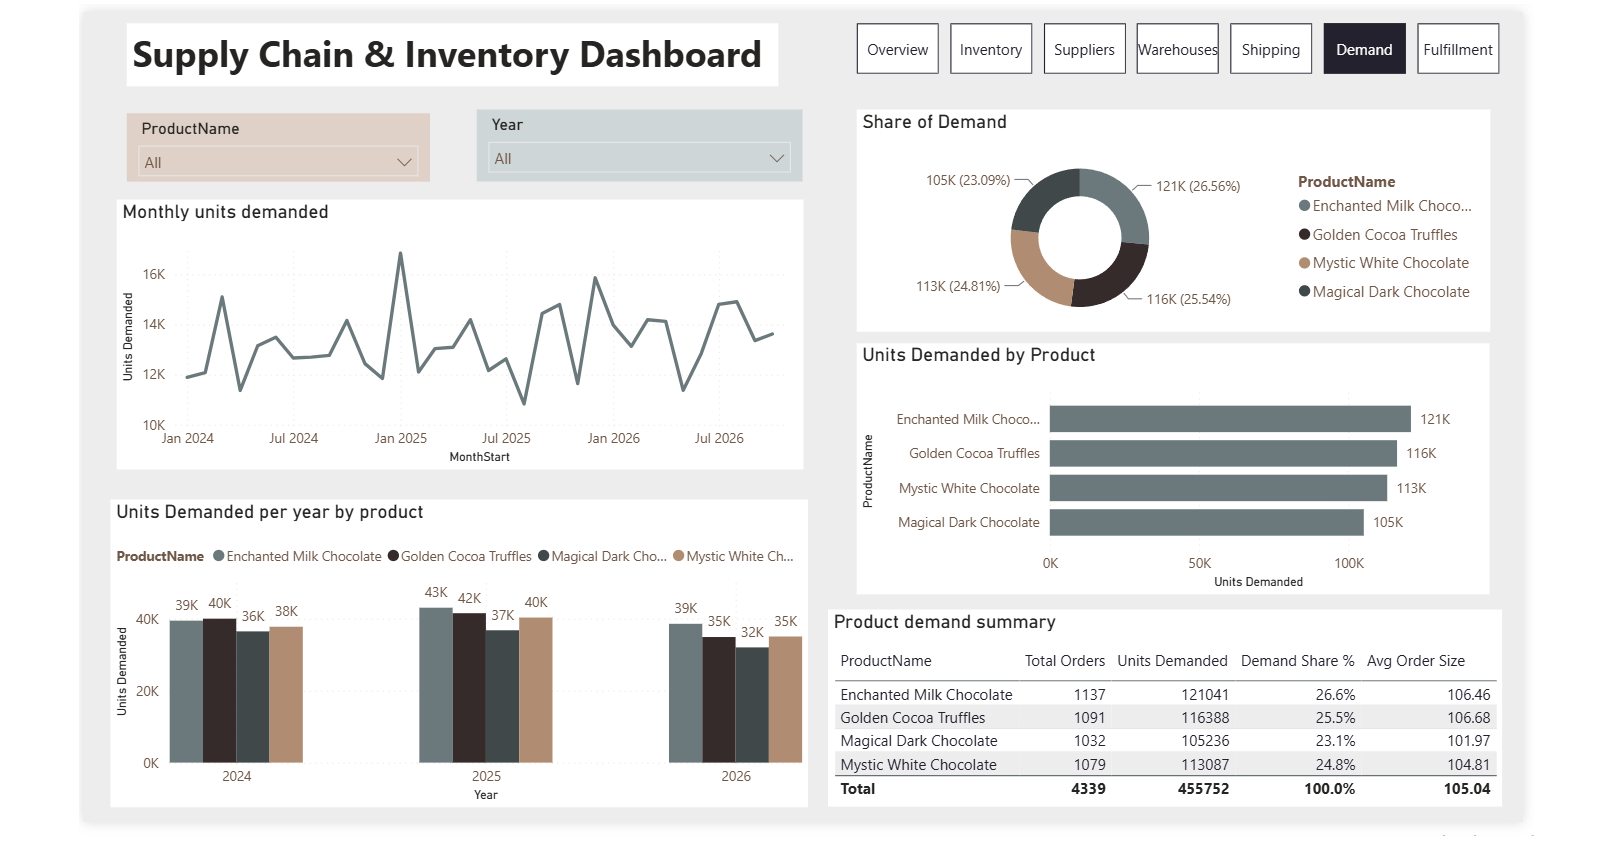

The dashboard page shown, as its layout file describes it:
{"tool":"powerbi","page":{"name":"Demand","canvas":[1280,720],"ordinal":5},"visuals":[{"type":"clusteredBarChart","title":"Units Demanded by Product","fields":{"Category":["sales_orders_clean.ProductName"],"Y":["carriers_clean.Units Demanded"]},"box":[687.4,294.7,562.1,223.2],"z":0},{"type":"donutChart","title":"Share of Demand","fields":{"Category":["sales_orders_clean.ProductName"],"Y":["carriers_clean.Units Demanded"]},"box":[687.4,86.3,563.2,197.9],"z":1000},{"type":"lineChart","title":"Monthly units demanded","fields":{"Y":["carriers_clean.Units Demanded"],"Category":["sales_orders_clean.MonthStart"]},"box":[29.5,166.3,610,240],"z":2000},{"type":"clusteredColumnChart","title":"Units Demanded per year by product","fields":{"Y":["carriers_clean.Units Demanded"],"Series":["sales_orders_clean.ProductName"],"Category":["sales_orders_clean.Year"]},"box":[24.2,433.7,620,273.7],"z":3000},{"type":"tableEx","title":"Product demand summary","fields":{"Values":["sales_orders_clean.ProductName","sales_orders_clean.Total Orders","carriers_clean.Units Demanded","carriers_clean.Demand Share %","carriers_clean.Avg Order Size"]},"box":[662.1,531.6,599.3,175.6],"z":4000},{"type":"slicer","fields":{"Values":["sales_orders_clean.ProductName"]},"box":[38.9,89.5,269.5,61.1],"z":5000},{"type":"slicer","fields":{"Values":["sales_orders_clean.OrderDate.Variation.Date Hierarchy.Year"]},"box":[350.5,86.3,289.5,64.2],"z":6000},{"type":"pageNavigator","box":[687.6,10.5,575,45.7],"z":7000},{"type":"textbox","box":[38.9,10.5,578.9,55.8],"z":8000}]}

Visuals, with their boxes on the page's 1280x720 design canvas (x1, y1, x2, y2). These are canvas units, not pixel positions in the 1608x841 screenshot, which may show the page scaled, cropped or inside an application window:
"Units Demanded by Product" clusteredBarChart: (687,295,1250,518)
"Share of Demand" donutChart: (687,86,1251,284)
"Monthly units demanded" lineChart: (30,166,640,406)
"Units Demanded per year by product" clusteredColumnChart: (24,434,644,707)
"Product demand summary" tableEx: (662,532,1261,707)
slicer - sales_orders_clean.ProductName: (39,90,308,151)
slicer - sales_orders_clean.OrderDate.Variation.Date Hierarchy.Year: (350,86,640,150)
pageNavigator: (688,10,1263,56)
textbox: (39,10,618,66)
